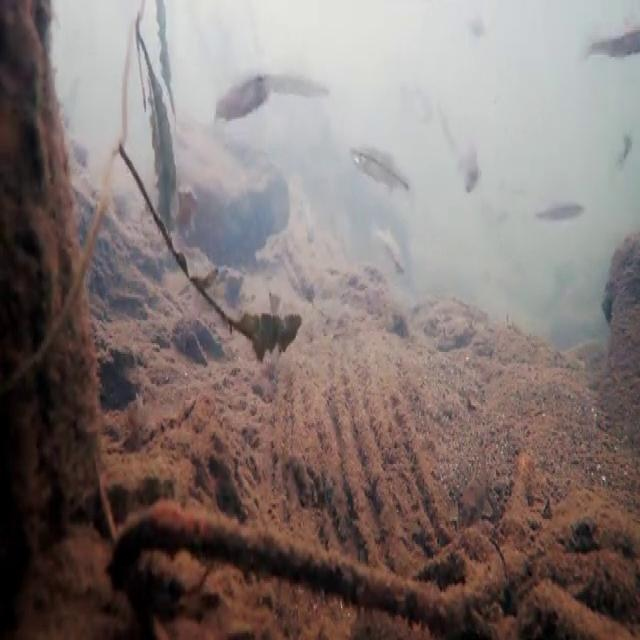Cakil Baligi: (351, 137, 407, 196), (374, 224, 409, 276), (536, 199, 586, 231)
